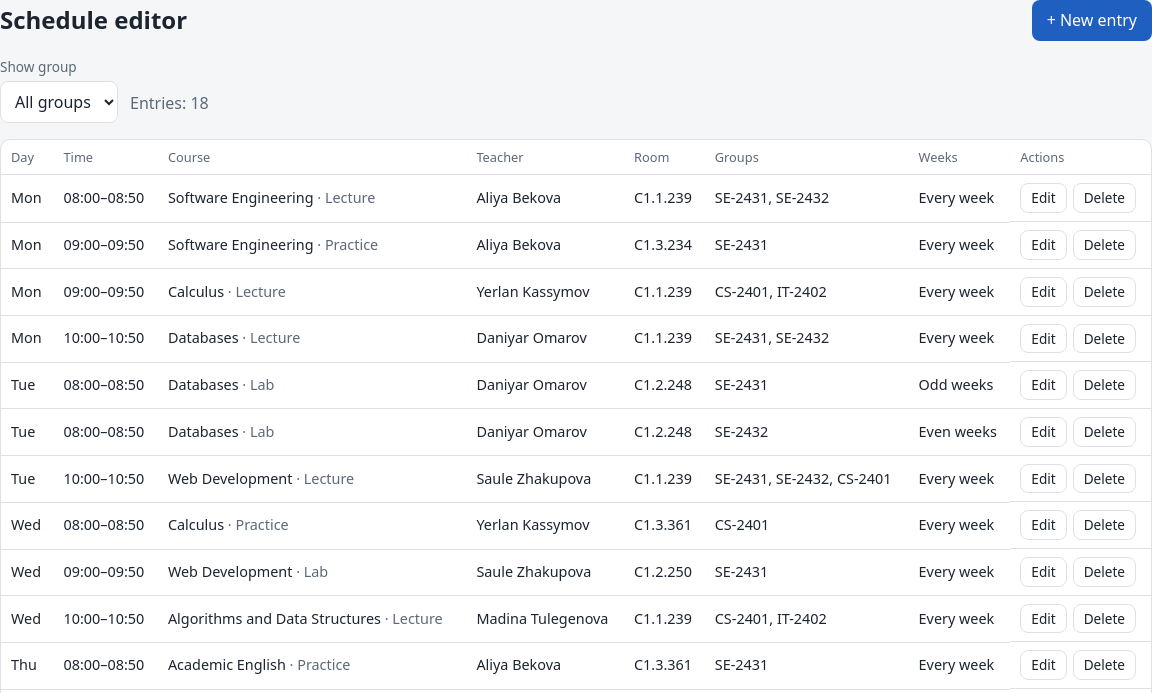
Test: AdminEntriesPage › shows a conflict message and does not save a double-booked entry
The image size is (1152, 693).
Check: the text "Entries: 18" is shown, box [130,92,209,115]
Click the button "+ New entry" at (1092, 21), box [1032,0,1151,41]
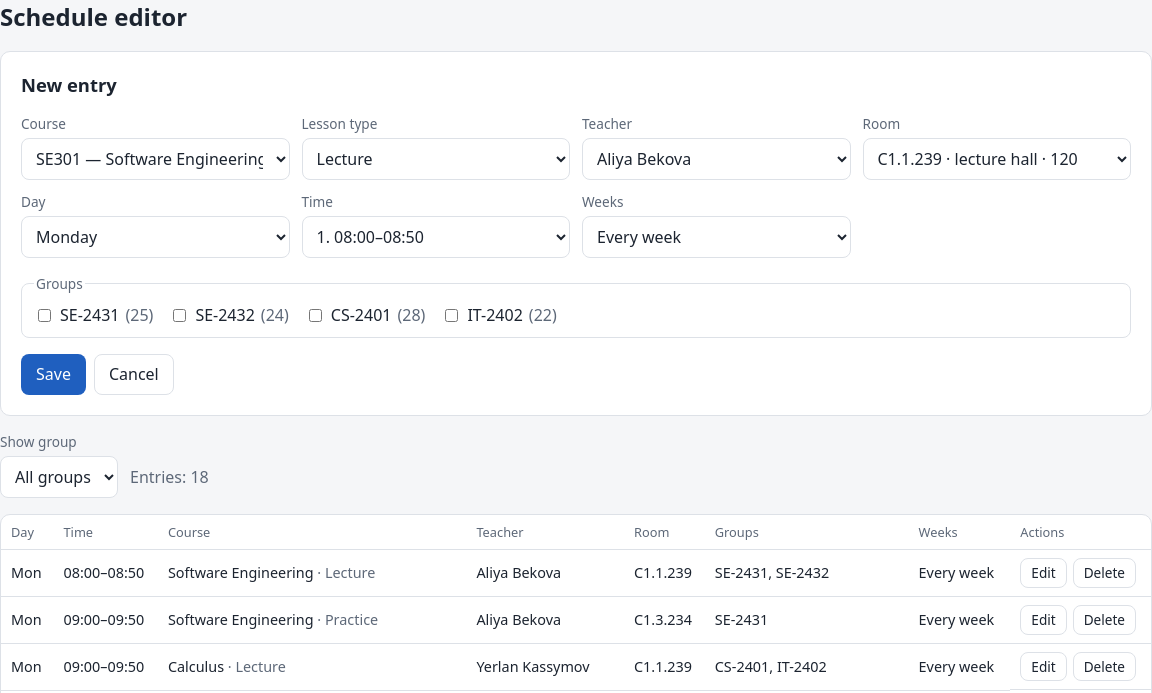
Click the checkbox labelled "SE-2431 (25)" at (44, 315), box [38,309,51,322]
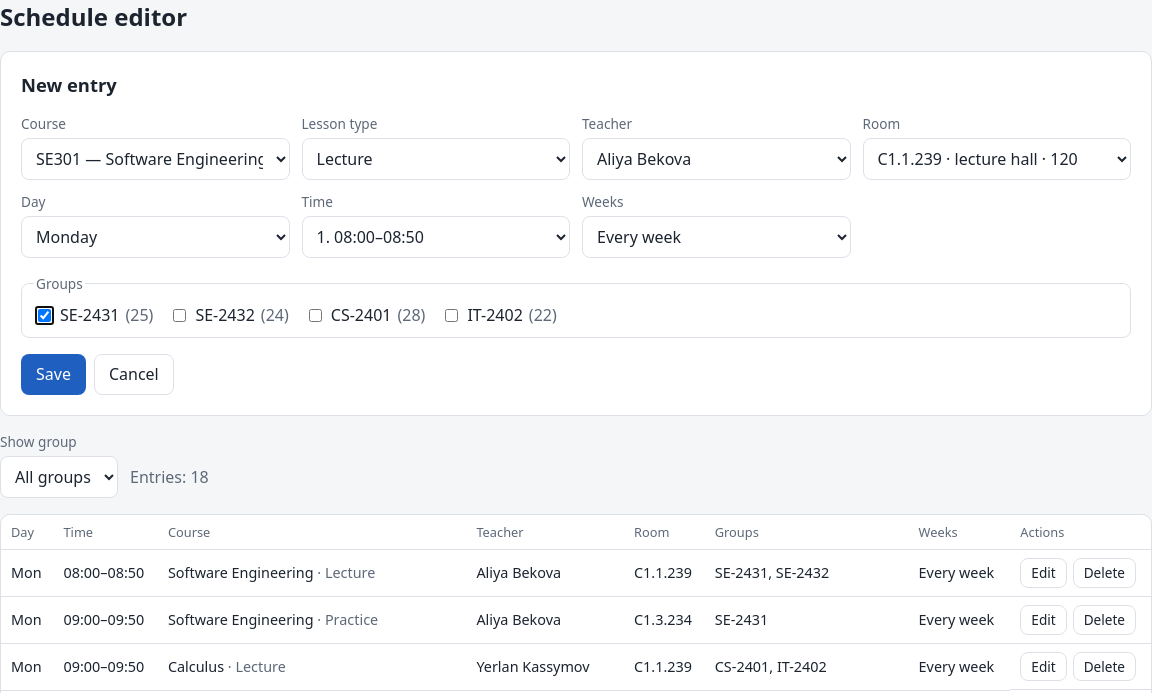
Click the button "Save" at (53, 374), box [21,354,86,395]
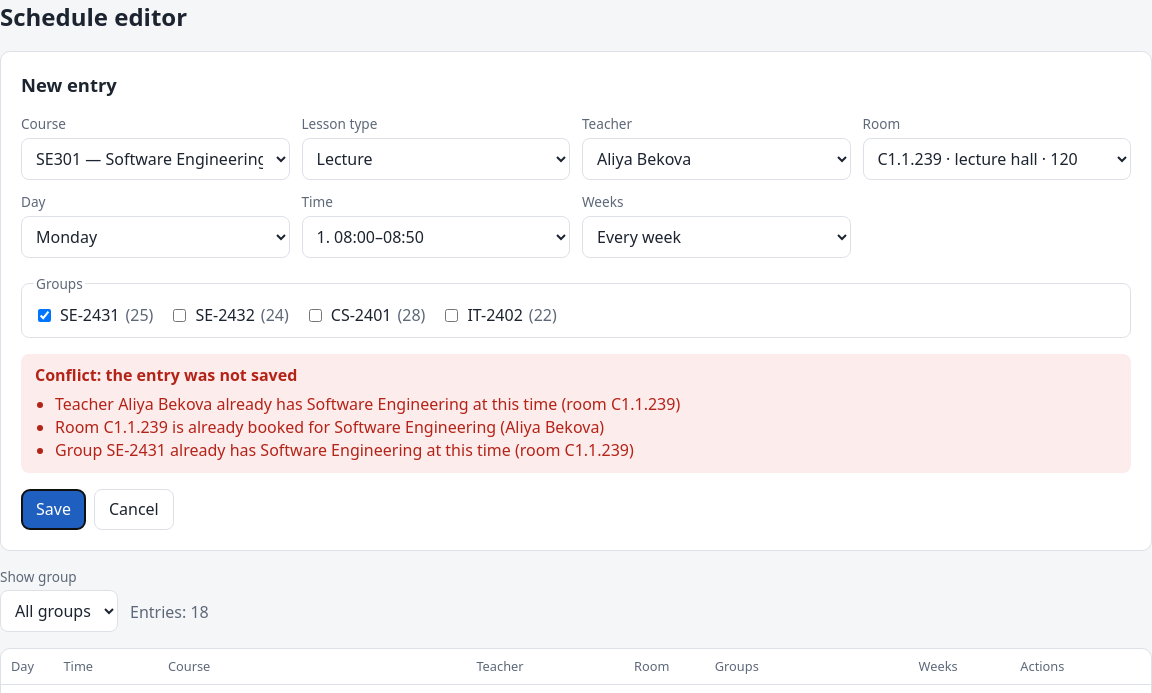
Check: the message shows "Conflict: the entry was not saved", box [35,364,297,386]
Check: the message shows "Teacher Aliya Bekova already has Software Engineering", box [55,393,680,415]
Check: the message shows "Room C1.1.239 is already booked", box [55,416,604,438]
